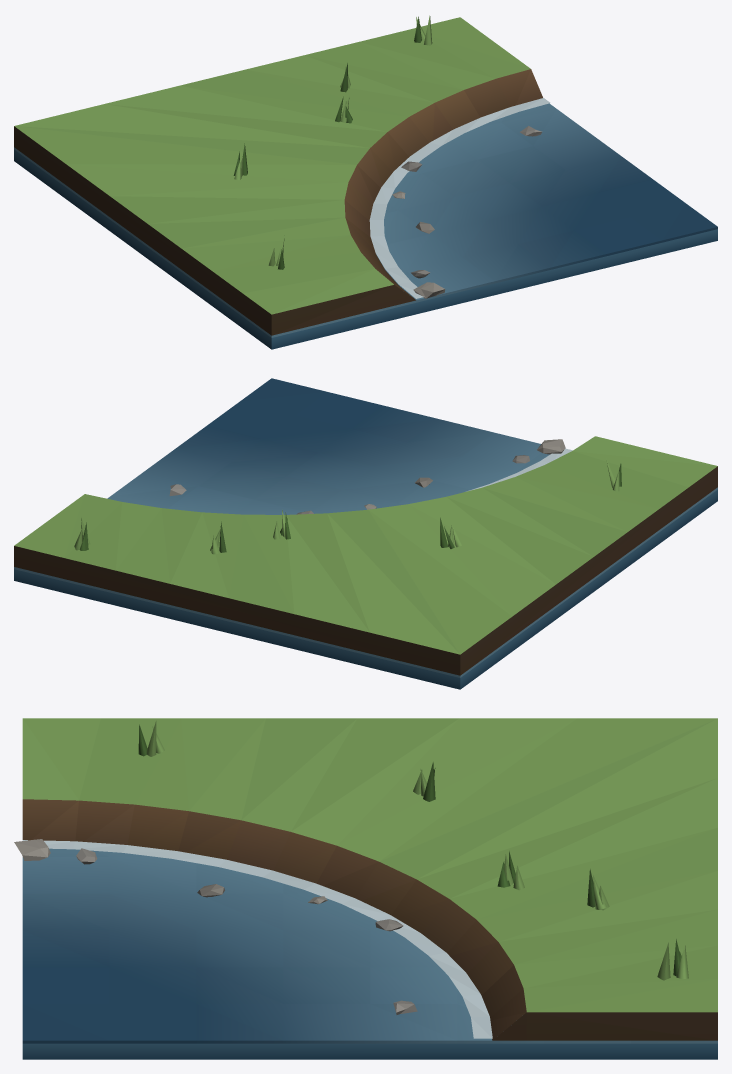
File: shore-corner-in-fjord.glb
3 views of the same model, one above another, from view 1: azimuth 30°, elevation 25°; view 2: azimuth 150°, elevation 25°; view 3: azimuth 270°, elevation 25° (orthographic). The views are drawn at different scales.
Visible parts, largest first — view 1: shore_corner_in_fjord; view 2: shore_corner_in_fjord; view 3: shore_corner_in_fjord.
Part boxes in pixels (box(x1,y1,x2,y2)): shore_corner_in_fjord: box(14, 15, 717, 349); shore_corner_in_fjord: box(14, 378, 717, 689); shore_corner_in_fjord: box(14, 718, 717, 1059).
Bounding box in the file's own units: 4 × 0.5549 × 4.05.
